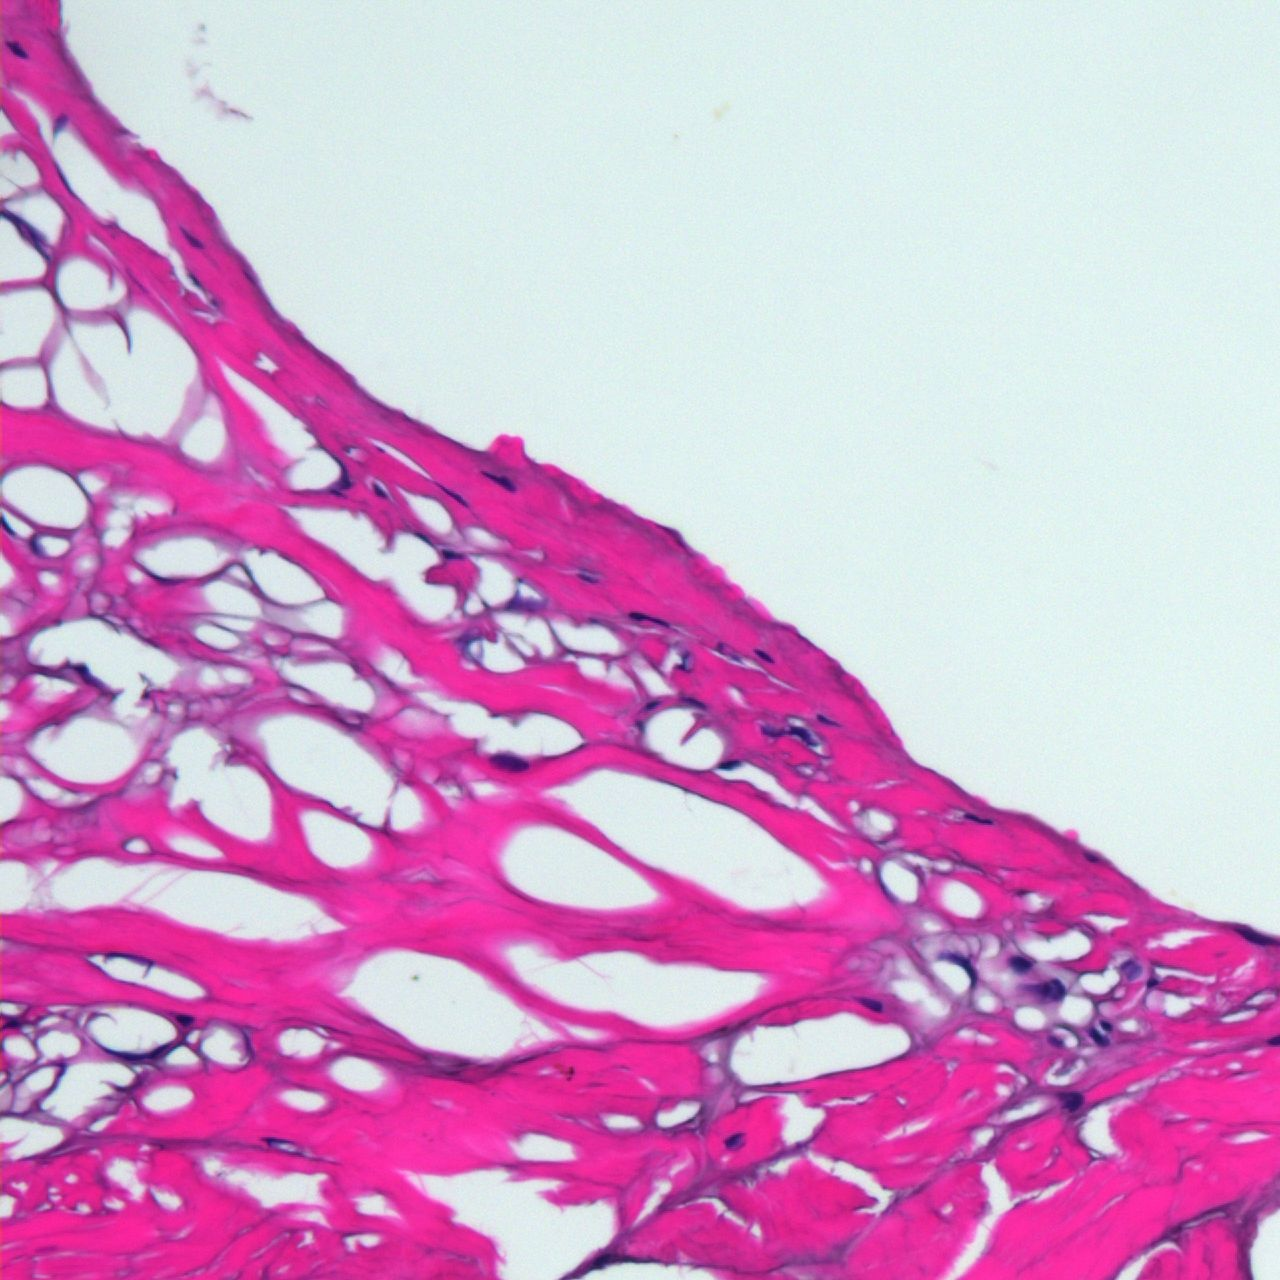nucleus-HE: (482, 463, 522, 496), (1233, 922, 1279, 949), (488, 747, 529, 776), (628, 608, 670, 631), (1085, 1024, 1111, 1050), (1039, 978, 1064, 1001), (962, 811, 993, 828), (859, 995, 885, 1014), (1060, 1091, 1082, 1112), (682, 694, 708, 712), (754, 647, 776, 666), (1008, 956, 1032, 972), (723, 1132, 743, 1148), (642, 697, 661, 713), (175, 1013, 195, 1027), (719, 758, 740, 771), (1098, 1017, 1115, 1034), (372, 483, 384, 499), (442, 550, 463, 559), (1146, 978, 1158, 985)
